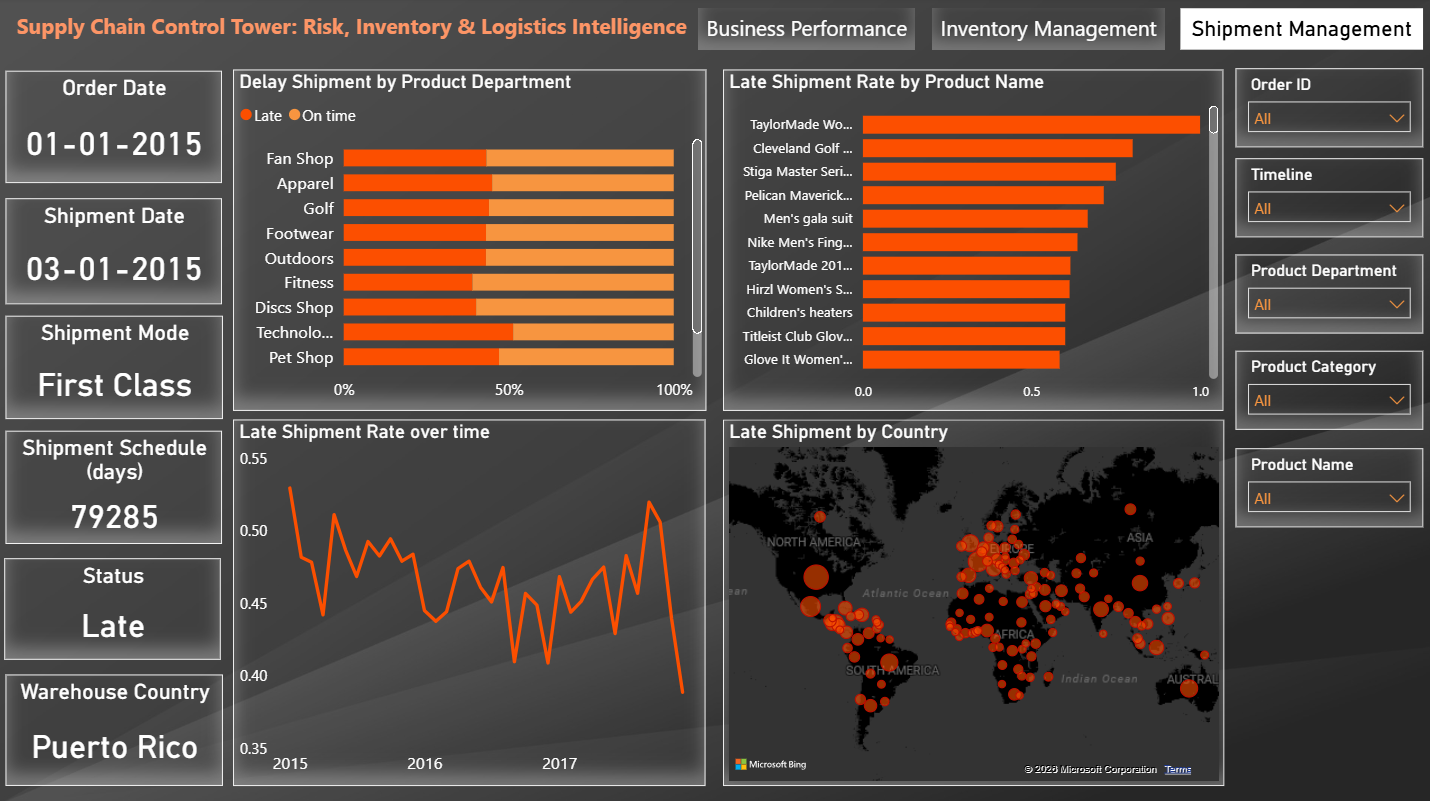

What the dashboard file says about the page in this screenshot:
{"tool":"powerbi","page":{"name":"Shipment Management","canvas":[1280,720],"ordinal":2},"visuals":[{"type":"hundredPercentStackedBarChart","title":"Delay Shipment by Product Department","fields":{"Series":["order.Delay Shipment"],"Y":["Count(order.Order ID)"],"Category":["product.Product Department"]},"box":[209.3,64.6,421.9,303.9],"z":0},{"type":"slicer","fields":{"Values":["product.Product Department"]},"box":[1101.6,229,167,70.6],"z":1000},{"type":"slicer","fields":{"Values":["Date.Date.Variation.Date Hierarchy.Year","Date.Date.Variation.Date Hierarchy.Quarter","Date.Date.Variation.Date Hierarchy.Month","Date.Date.Variation.Date Hierarchy.Day"]},"box":[1101.6,144,167,70.6],"z":2000},{"type":"slicer","title":"Order ID","fields":{"Values":["order.Order ID"]},"box":[1102.3,63.6,167,70.6],"z":3000},{"type":"map","title":"Late Shipment by Country","fields":{"Category":["order.Customer Country"],"Size":["Count(order.Order ID)"]},"box":[645.6,376.3,446.4,317.3],"z":4000},{"type":"clusteredBarChart","title":"Late Shipment Rate by Product Name","fields":{"Y":["order.Late Shipment Rate %"],"Category":["order.Product Name"]},"box":[646.8,64.6,444.2,303.9],"z":5000},{"type":"lineChart","title":"Late Shipment Rate over time","fields":{"Category":["Date.Date.Variation.Date Hierarchy.Year","Date.Date.Variation.Date Hierarchy.Quarter","Date.Date.Variation.Date Hierarchy.Month"],"Y":["order.Late Shipment Rate %"]},"box":[209,376.3,421.5,318.1],"z":6000},{"type":"card","title":"Order Date","fields":{"Values":["Min(order.Order Date)"]},"box":[6.4,65.5,192.5,101.8],"z":7000},{"type":"card","title":"Shipment Date","fields":{"Values":["Min(order.Shipment Date)"]},"box":[6.4,173,192.5,101.2],"z":8000},{"type":"card","title":"Shipment Mode","fields":{"Values":["Min(order.Shipment Mode)"]},"box":[6.7,283.9,193.7,92.4],"z":9000},{"type":"card","title":"Shipment Schedule (days)","fields":{"Values":["Sum(order.Shipment Days - Scheduled)"]},"box":[7.2,385.9,193,100.8],"z":10000},{"type":"card","title":"Status","fields":{"Values":["Min(order.Delay Shipment)"]},"box":[5.8,499.7,193,90.7],"z":11000},{"type":"slicer","fields":{"Values":["product.Product Category"]},"box":[1101.6,315.4,167,70.6],"z":12000},{"type":"slicer","fields":{"Values":["order.Product Name"]},"box":[1101.6,401.8,167,70.6],"z":13000},{"type":"card","title":"Warehouse Country","fields":{"Values":["Min(order.Warehouse Country)"]},"box":[7.2,603.4,193,90.7],"z":14000},{"type":"actionButton","box":[623.4,10,193.7,45.6],"z":15000},{"type":"actionButton","box":[832.7,10,207.1,45.6],"z":16000},{"type":"textbox","box":[1053.1,10,216,36.7],"z":17000},{"type":"textbox","box":[831.5,10,208.2,37.8],"z":18000},{"type":"textbox","box":[623.4,10,193.7,36.7],"z":19000},{"type":"textbox","box":[16.7,7.8,606.7,39],"z":20000}]}

Visuals, with their boxes in screenshot pixels (x1, y1, x2, y2), scaled from the page's 1280x720 canvas onto the 1430x801 screenshot:
"Delay Shipment by Product Department" hundredPercentStackedBarChart: x1=234, y1=72, x2=705, y2=410
slicer - product.Product Department: x1=1231, y1=255, x2=1417, y2=333
slicer - Date.Date.Variation.Date Hierarchy.Year x Date.Date.Variation.Date Hierarchy.Quarter: x1=1231, y1=160, x2=1417, y2=239
"Order ID" slicer: x1=1231, y1=71, x2=1418, y2=149
"Late Shipment by Country" map: x1=721, y1=419, x2=1220, y2=772
"Late Shipment Rate by Product Name" clusteredBarChart: x1=723, y1=72, x2=1219, y2=410
"Late Shipment Rate over time" lineChart: x1=233, y1=419, x2=704, y2=773
"Order Date" card: x1=7, y1=73, x2=222, y2=186
"Shipment Date" card: x1=7, y1=192, x2=222, y2=305
"Shipment Mode" card: x1=7, y1=316, x2=224, y2=419
"Shipment Schedule (days)" card: x1=8, y1=429, x2=224, y2=541
"Status" card: x1=6, y1=556, x2=222, y2=657
slicer - product.Product Category: x1=1231, y1=351, x2=1417, y2=429
slicer - order.Product Name: x1=1231, y1=447, x2=1417, y2=526
"Warehouse Country" card: x1=8, y1=671, x2=224, y2=772
actionButton: x1=696, y1=11, x2=913, y2=62
actionButton: x1=930, y1=11, x2=1162, y2=62
textbox: x1=1177, y1=11, x2=1418, y2=52
textbox: x1=929, y1=11, x2=1162, y2=53
textbox: x1=696, y1=11, x2=913, y2=52
textbox: x1=19, y1=9, x2=696, y2=52
